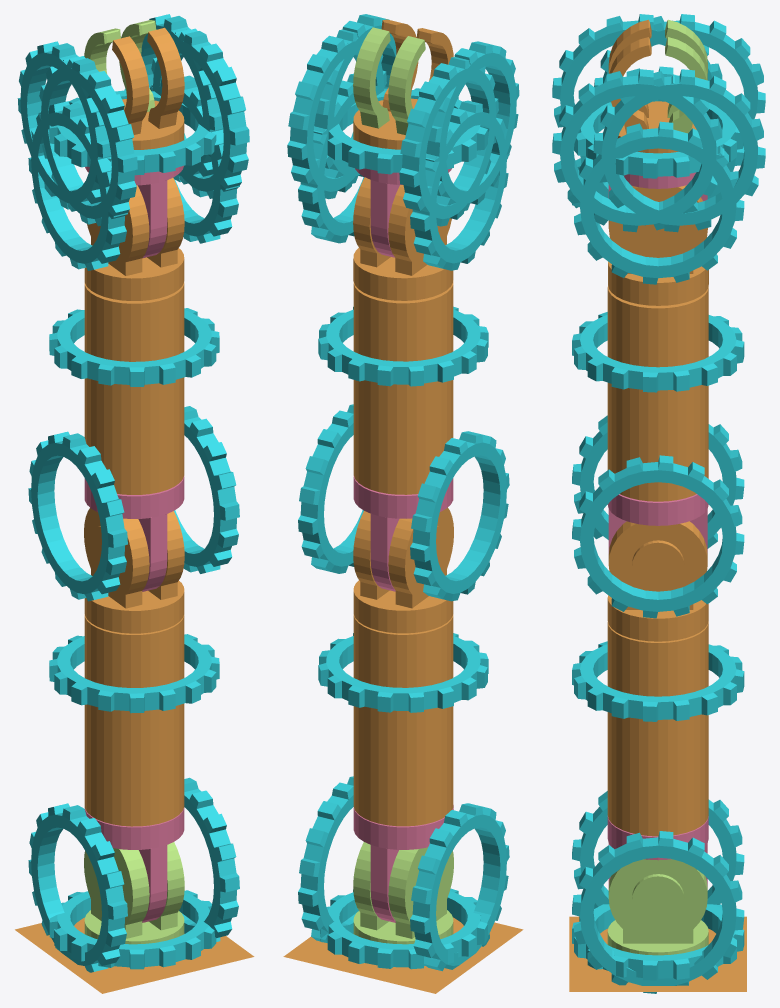
File: MultiArm_10.fbx
3 renders of one model, left to right at view 1: azimuth 30°, elevation 25°; view 2: azimuth 150°, elevation 25°; view 3: azimuth 270°, elevation 25°, orthographic.
Parts seen in each view (by area): view 1: UpperArm, Wrist, EB_Control, RP_Control, BS_Control, HA_Control, LP_Control, WR_Control, UA_Control, Shoulder Joint, SF_Control, RightPincher (+7 smaller); view 2: UpperArm, Wrist, EB_Control, LP_Control, BS_Control, HA_Control, RP_Control, UA_Control, WR_Control, Shoulder Joint, SF_Control, LeftPincher (+7 smaller); view 3: UpperArm, Wrist, EB_Control, BS_Control, RP_Control, LP_Control, HA_Control, Shoulder Joint, WR_Control, UA_Control, PB_Control, Plane (+7 smaller).
Boxes of the visible parts, <box> form: UpperArm: <box>84,508,184,826</box>; Wrist: <box>84,178,184,494</box>; EB_Control: <box>28,406,239,601</box>; RP_Control: <box>38,29,249,226</box>; BS_Control: <box>28,777,239,972</box>; HA_Control: <box>28,75,239,270</box>; LP_Control: <box>17,14,223,209</box>; WR_Control: <box>49,308,219,386</box>; UA_Control: <box>49,634,219,713</box>; Shoulder Joint: <box>84,842,184,944</box>; SF_Control: <box>49,890,216,969</box>; RightPincher: <box>112,27,184,134</box>; UpperArm: <box>353,507,453,826</box>; Wrist: <box>353,177,453,494</box>; EB_Control: <box>298,404,509,601</box>; LP_Control: <box>287,29,498,226</box>; BS_Control: <box>298,776,509,971</box>; HA_Control: <box>298,73,509,270</box>; RP_Control: <box>313,14,519,210</box>; UA_Control: <box>318,633,488,712</box>; WR_Control: <box>318,306,488,386</box>; Shoulder Joint: <box>353,842,453,944</box>; SF_Control: <box>319,888,487,969</box>; LeftPincher: <box>353,27,425,134</box>; UpperArm: <box>607,521,708,836</box>; Wrist: <box>607,185,708,501</box>; EB_Control: <box>572,415,744,618</box>; BS_Control: <box>572,791,744,993</box>; RP_Control: <box>552,14,724,232</box>; LP_Control: <box>593,14,765,232</box>; HA_Control: <box>572,66,744,284</box>; Shoulder Joint: <box>607,859,708,955</box>; WR_Control: <box>572,312,744,392</box>; UA_Control: <box>572,641,744,721</box>; PB_Control: <box>574,99,743,178</box>; Plane: <box>569,916,746,991</box>.
Bounding box in the file's own units: 352 × 2033 × 423.
